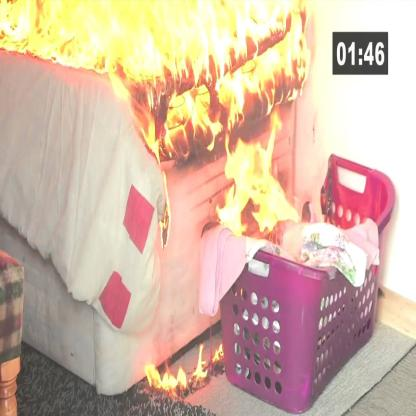fire: (1, 0, 313, 236), (134, 335, 226, 407)
